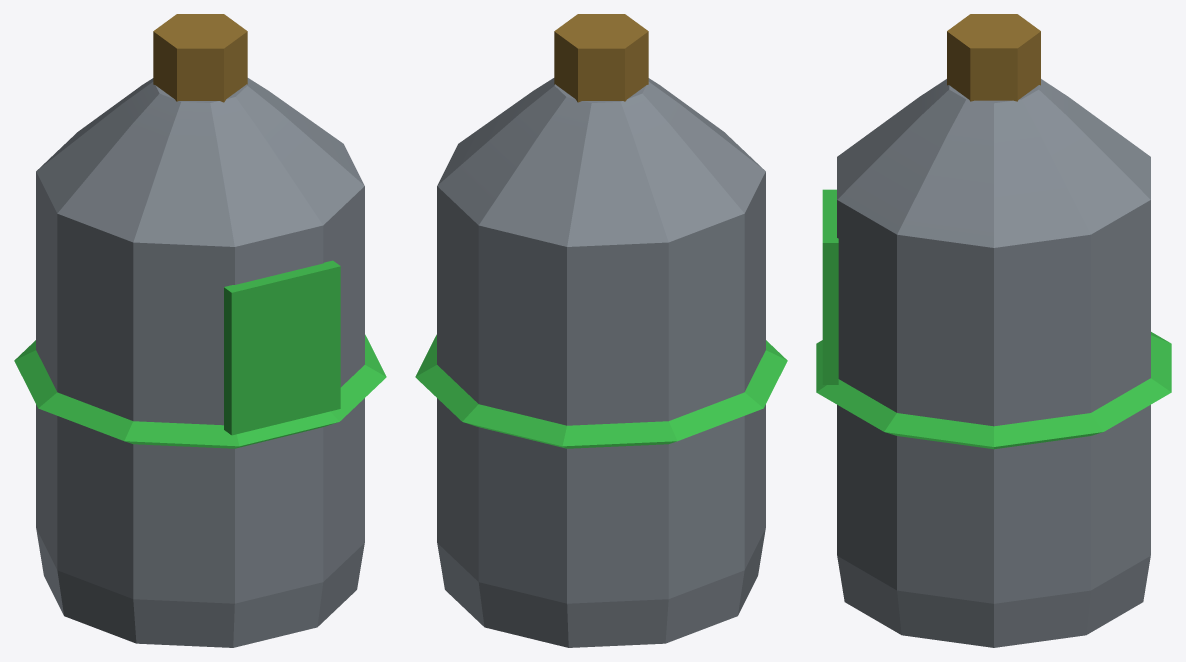
The model's file is projector-canister-corrosive.glb.
3 views of the same model, side by side, from view 1: azimuth 30°, elevation 25°; view 2: azimuth 150°, elevation 25°; view 3: azimuth 270°, elevation 25° (orthographic).
Parts seen in each view (by area): view 1: m; view 2: m; view 3: m.
Part boxes in pixels (x1,y1,x2,y2): m: [14, 14, 386, 647]; m: [415, 14, 787, 647]; m: [816, 14, 1171, 647].
Bounding box in the file's own units: 0.0425 × 0.069 × 0.0404.
